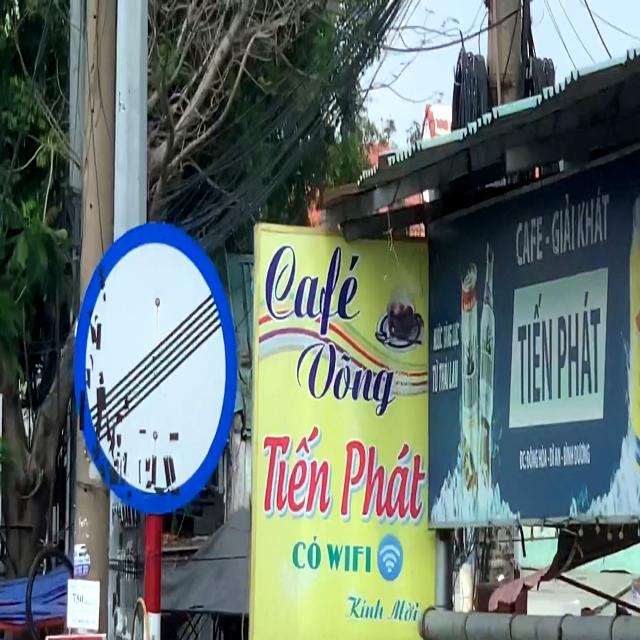DP.135: (73, 222, 239, 516)
